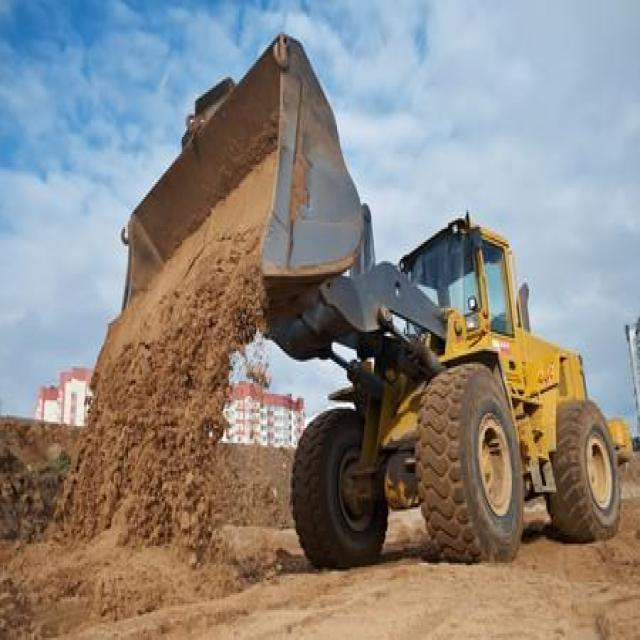pala cargadora: (91, 32, 626, 567)
